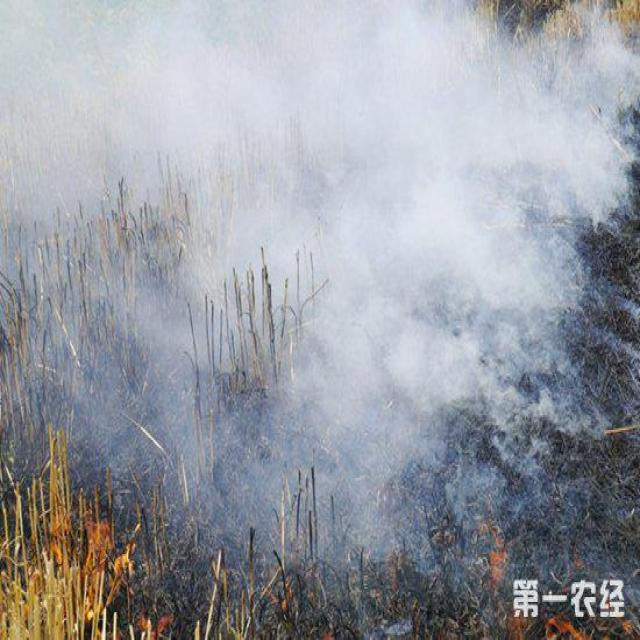fire: (34, 485, 136, 606), (524, 577, 638, 635), (477, 515, 510, 593), (134, 593, 176, 633), (276, 590, 288, 614)
smoke: (395, 37, 537, 328), (284, 224, 483, 413), (494, 54, 612, 206), (251, 39, 371, 140)
